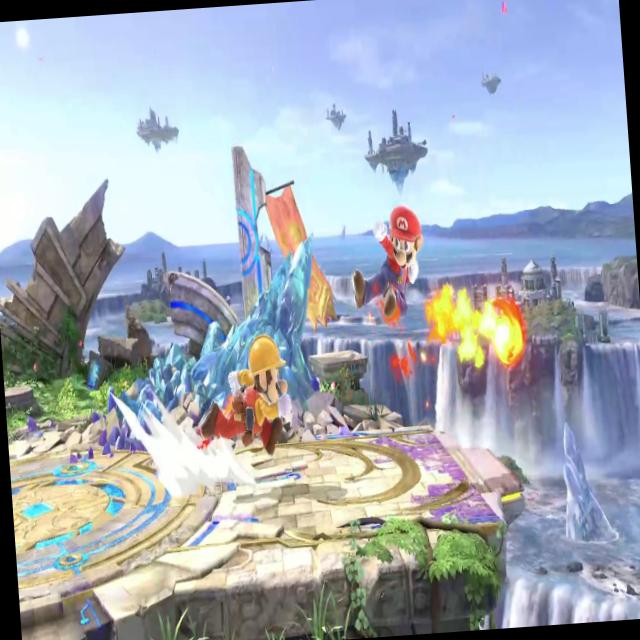Mario: (191, 329, 296, 464)
Mario-NA: (342, 195, 432, 328)
